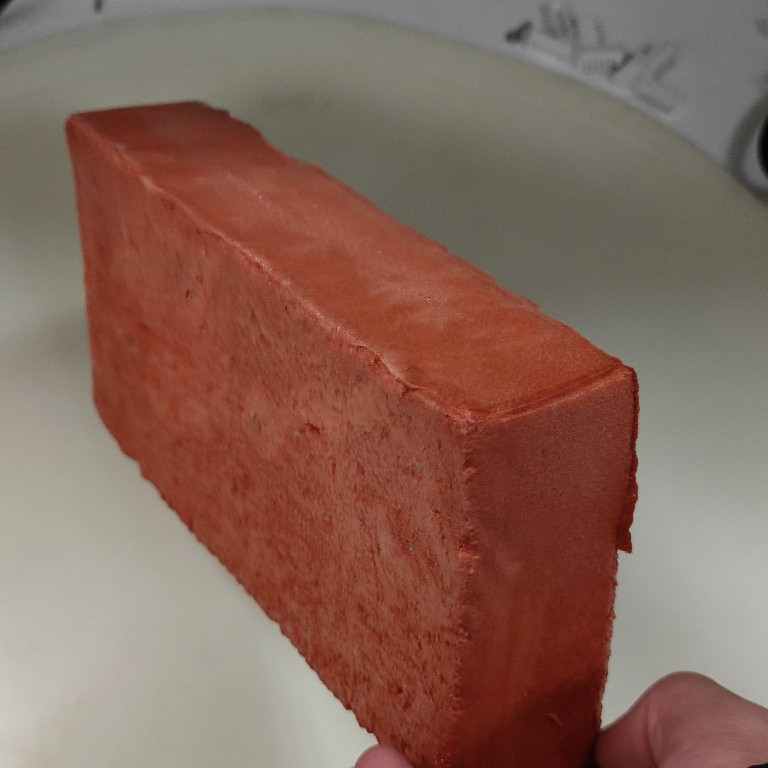brick: (62, 95, 649, 768)
